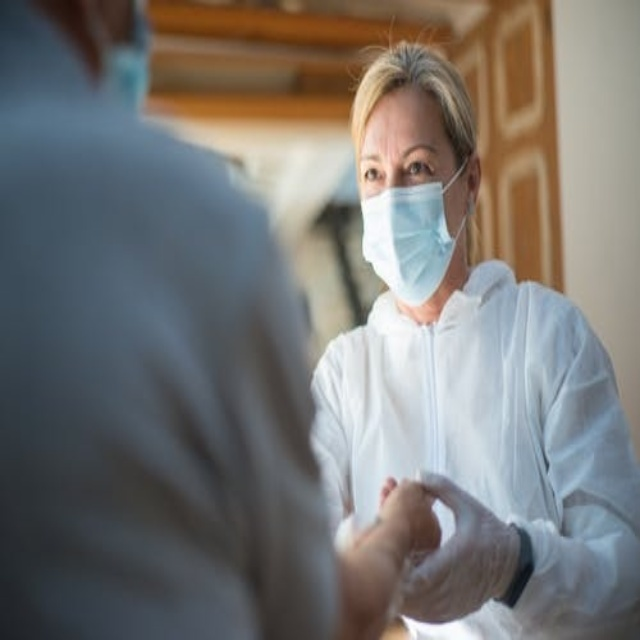Guantes: (394, 472, 524, 627)
Mascara: (361, 160, 469, 306), (106, 5, 151, 114)
Sin_gafas: (361, 140, 445, 182)
